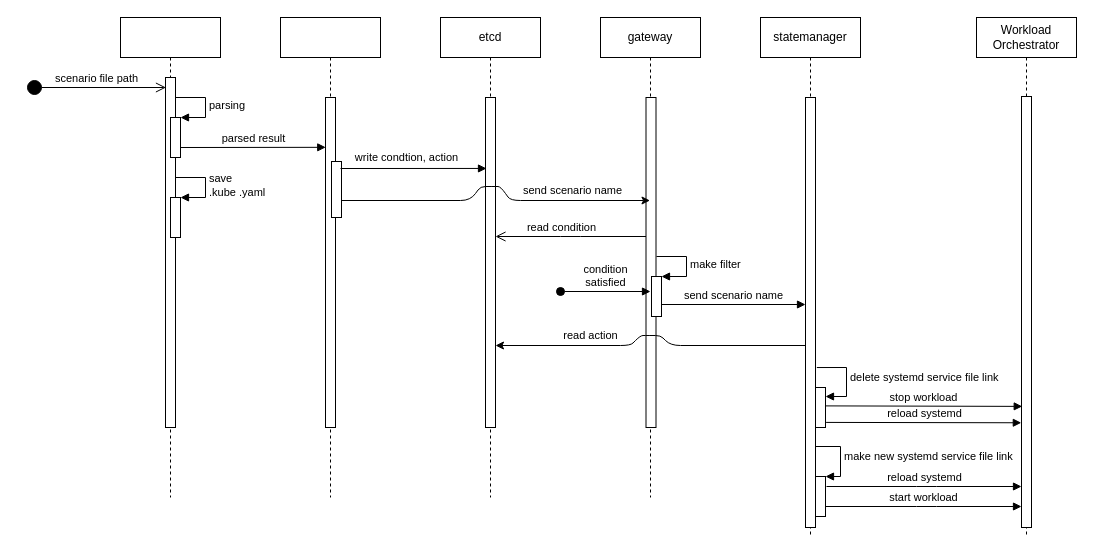
Image size: 1094x554. Some labels were removed from this diagram. The centre of each missing label's shape, as x and y in pixels:
"api-server" goes at point (330, 257).
"yamlparser" goes at point (170, 257).
